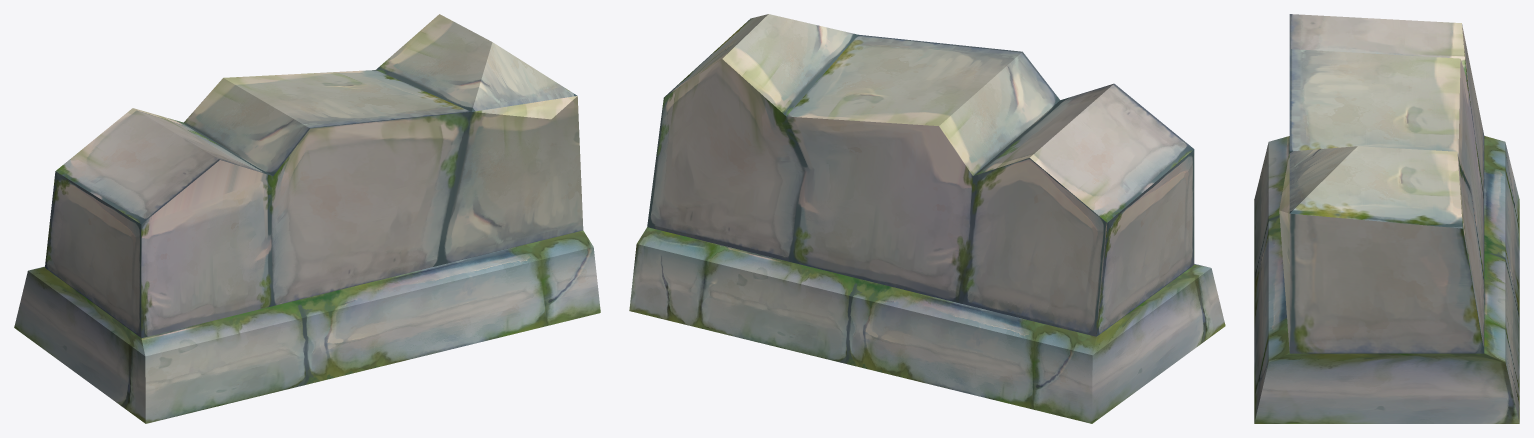
The model's file is temple_obstacle_04_broken.fbx.
The picture shows the model from 3 angles, left to right: view 1: azimuth 30°, elevation 25°; view 2: azimuth 150°, elevation 25°; view 3: azimuth 270°, elevation 25°; orthographic projection.
Parts seen in each view (by area): view 1: geo_Temple_Stair_LP.016; view 2: geo_Temple_Stair_LP.016; view 3: geo_Temple_Stair_LP.016.
Part boxes in pixels (bbox=[...]): geo_Temple_Stair_LP.016: bbox=[14, 14, 600, 423]; geo_Temple_Stair_LP.016: bbox=[629, 14, 1225, 423]; geo_Temple_Stair_LP.016: bbox=[1254, 14, 1519, 423].
Size of the model in its own units: 2 by 1.04 by 1.
